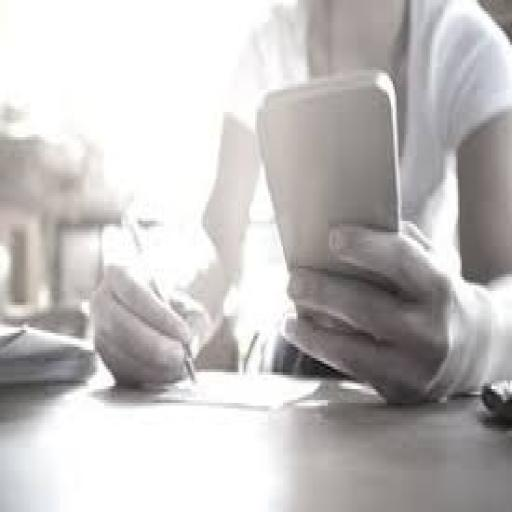texting: (90, 0, 510, 406)
